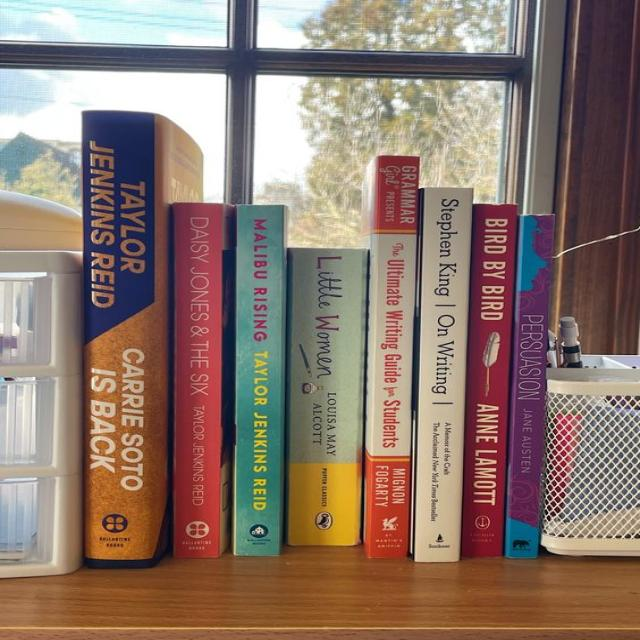book: (83, 111, 155, 569), (286, 249, 369, 546), (411, 186, 473, 561), (367, 155, 419, 558), (463, 203, 516, 558), (172, 203, 224, 557), (505, 216, 558, 558), (237, 204, 279, 555)
